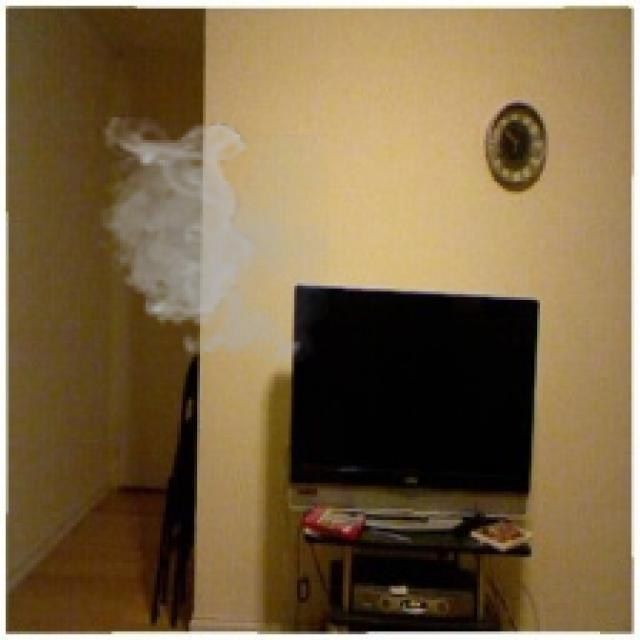Smoke: (92, 117, 328, 372)
